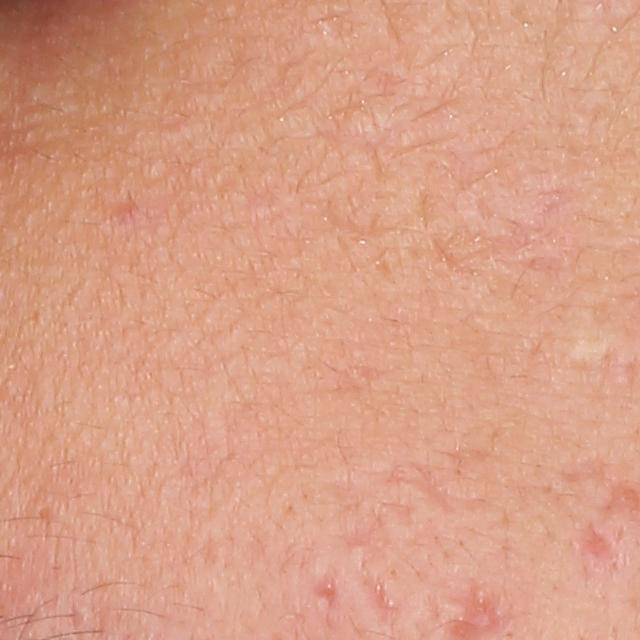atrophic_scar: (405, 462, 467, 513), (355, 566, 402, 626), (311, 563, 342, 611)
hypertrophic_scar: (556, 313, 614, 373), (435, 600, 472, 621)
